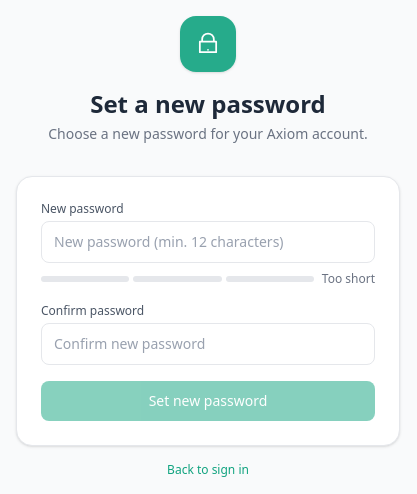
Test: ResetPasswordView › submitsNewPasswordAfterSuccessfulValidation
Expected: the button with test id "reset-password-submit" is shown, [41,381,375,421]
Type "NewSecurePassword123" into the password field with test id "reset-password-new" at (208, 242), box [41,221,375,263]
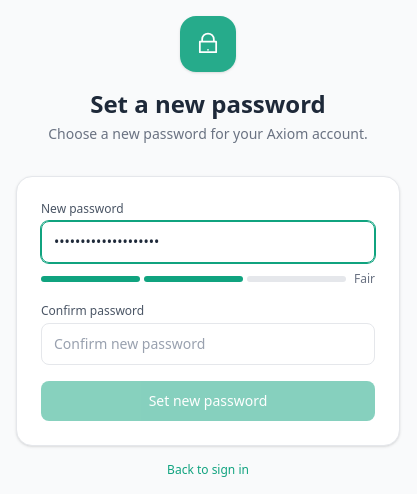
Type "NewSecurePassword123" into the password field with test id "reset-password-confirm" at (208, 344), box [41,323,375,365]
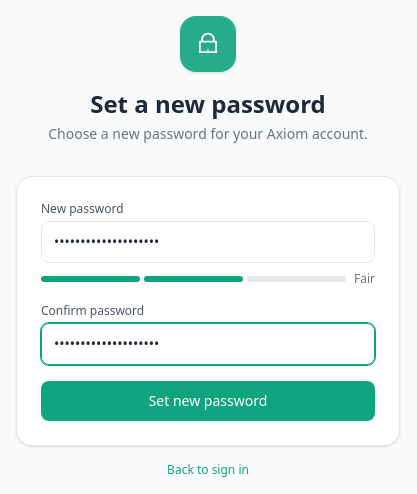
Click the button with test id "reset-password-submit" at (208, 401), box [41,381,375,421]
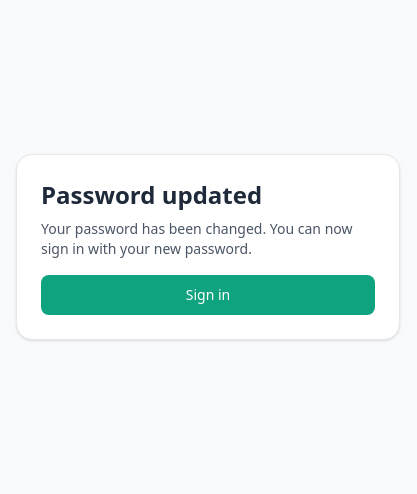
Now the button with test id "reset-password-sign-in" is shown, box [41,275,375,315]
